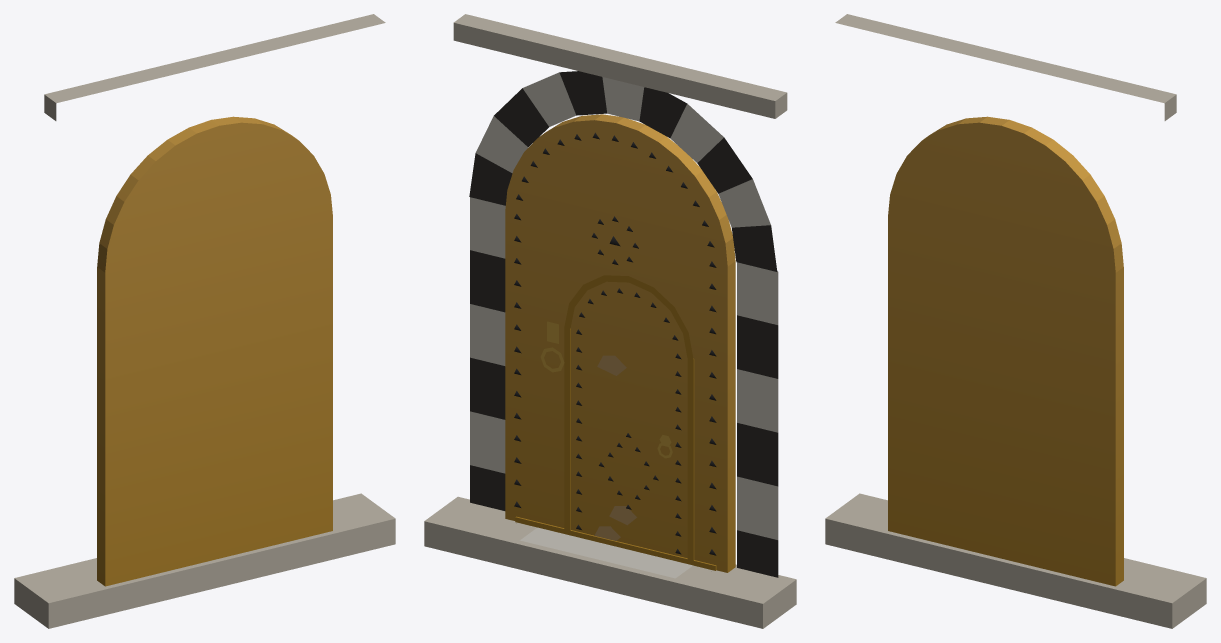
Rendered from door_medina_yellow.glb.
The picture shows the model from 3 angles, left to right: view 1: azimuth 30°, elevation 25°; view 2: azimuth 150°, elevation 25°; view 3: azimuth 330°, elevation 25°; orthographic projection. The views are drawn at different scales.
Visible parts, largest first — view 1: door_medina_yellow; view 2: door_medina_yellow; view 3: door_medina_yellow.
Part boxes in pixels (box(x1,y1,x2,y2)): door_medina_yellow: box(14, 14, 395, 628); door_medina_yellow: box(424, 14, 796, 628); door_medina_yellow: box(825, 14, 1206, 628).
Bounding box in the file's own units: 1.98 × 2.85 × 0.34.
